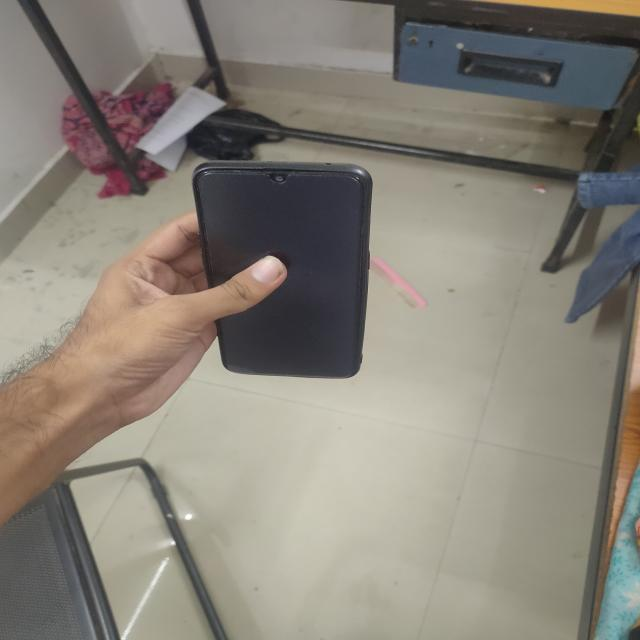Phone: (190, 160, 376, 380)
